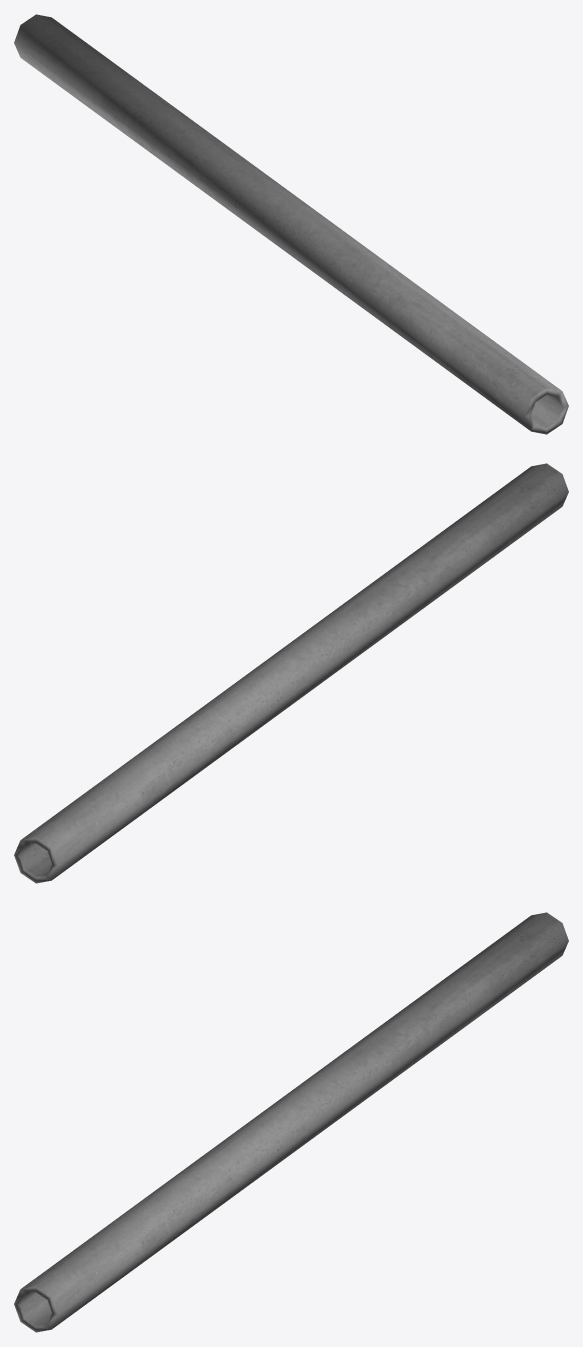
File: pvc_pipe.glb
3 renders of one model, top to bottom at view 1: azimuth 30°, elevation 25°; view 2: azimuth 150°, elevation 25°; view 3: azimuth 330°, elevation 25°, orthographic.
Parts seen in each view (by area): view 1: pvc_pipe; view 2: pvc_pipe; view 3: pvc_pipe.
Part boxes in pixels (x1,y1,x2,y2): pvc_pipe: (14, 14, 568, 434); pvc_pipe: (14, 463, 568, 883); pvc_pipe: (14, 912, 568, 1332).
Bounding box in the file's own units: 0.1524 × 0.1524 × 3.05.
1 material, 1 textured.
